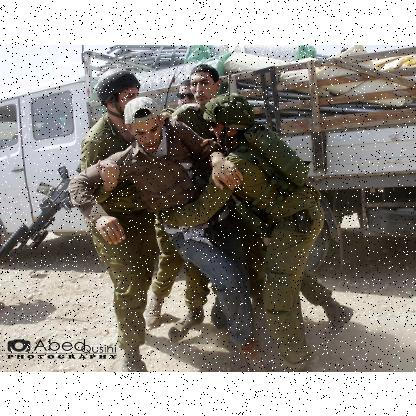gun: (0, 165, 82, 269)
